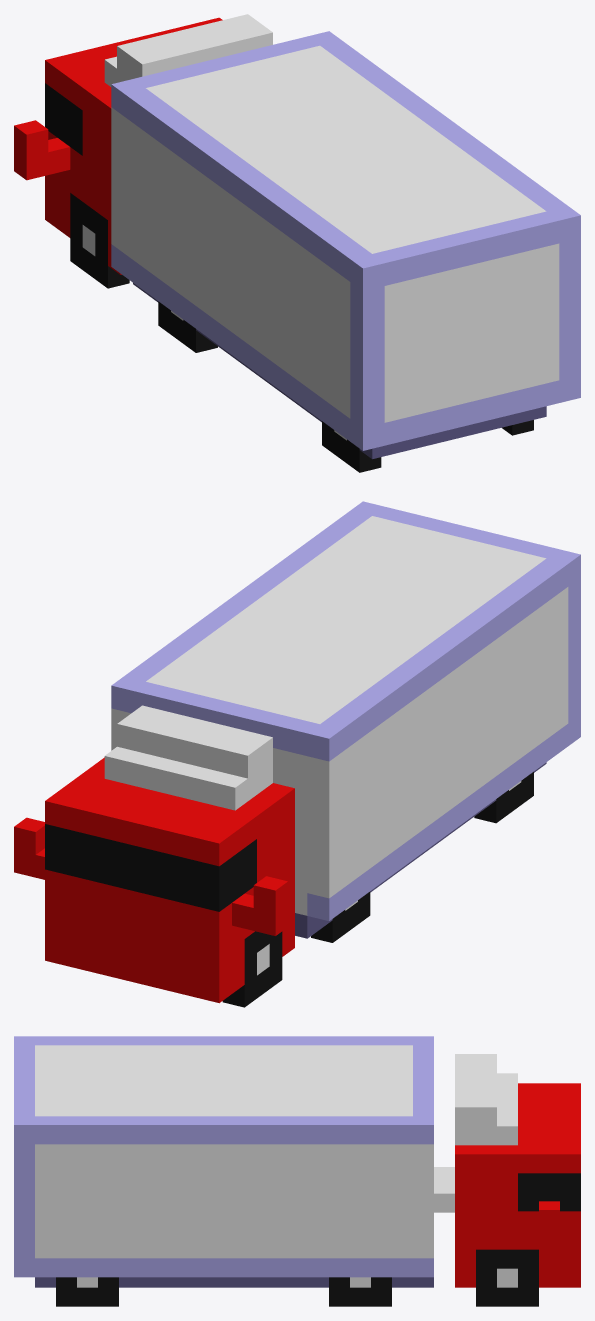
The model's file is car4-truck-f.obj.
3 views of the same model, one above another, from view 1: azimuth 30°, elevation 25°; view 2: azimuth 150°, elevation 25°; view 3: azimuth 270°, elevation 25° (orthographic). The views are drawn at different scales.
Bounding box in the file's own units: 12 × 10 × 27.
